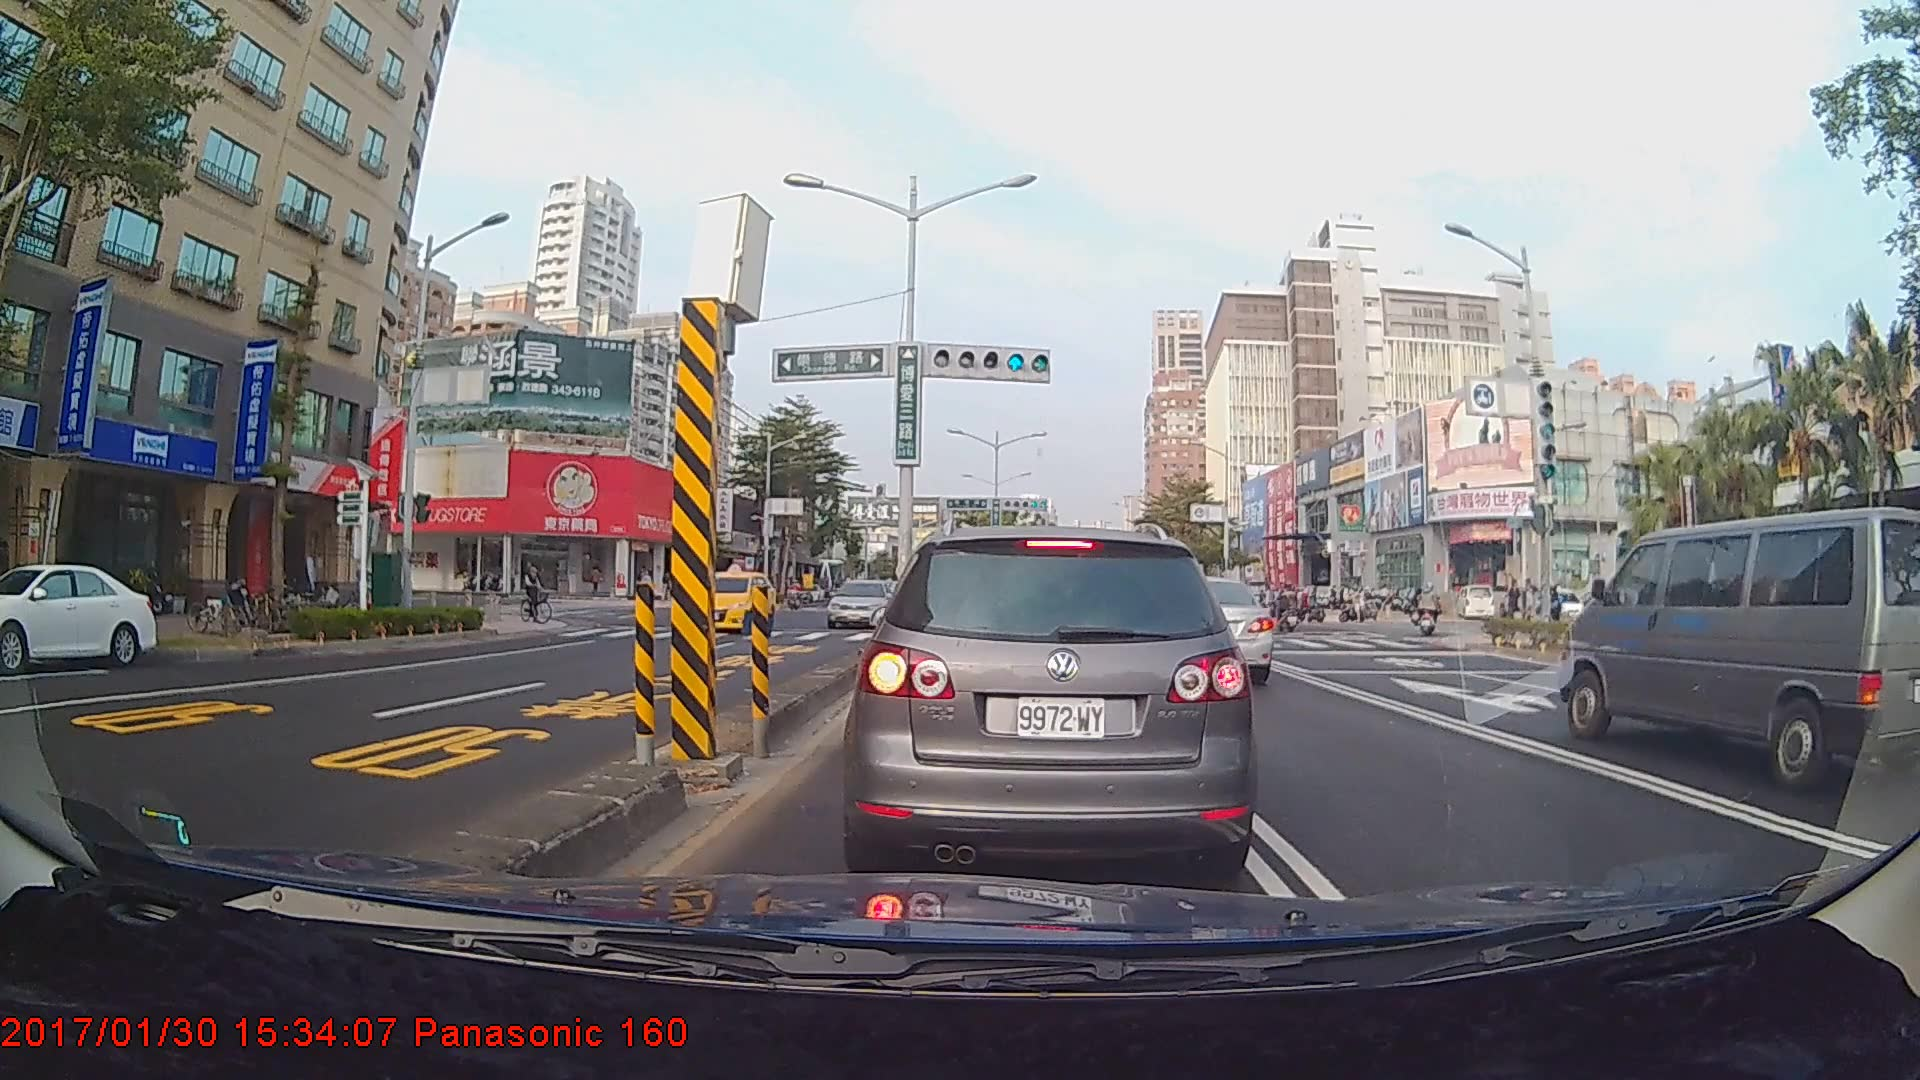rider: (518, 559, 561, 629), (1268, 581, 1311, 638), (1414, 582, 1442, 640)
vehicle: (858, 520, 1246, 874), (1556, 502, 1920, 795), (1110, 576, 1274, 689), (0, 561, 159, 671), (679, 567, 776, 633), (826, 577, 899, 628)
